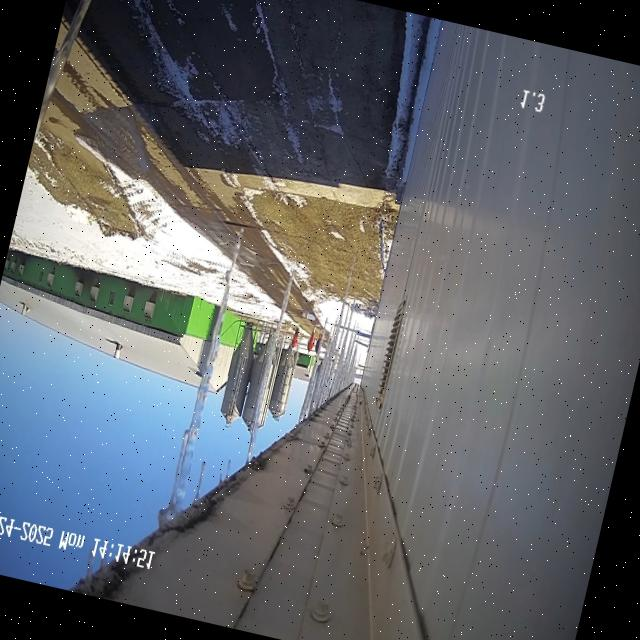Red uniform: (314, 328, 323, 356), (307, 326, 315, 352), (290, 327, 298, 350)
